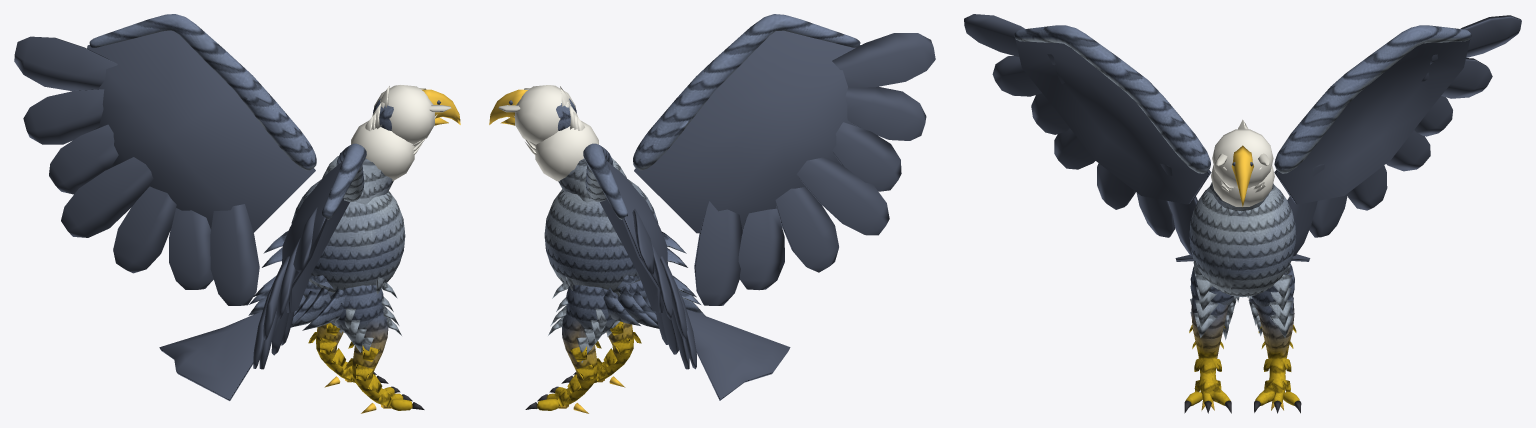
File: roc.glb
3 renders of one model, left to right at view 1: azimuth 30°, elevation 25°; view 2: azimuth 150°, elevation 25°; view 3: azimuth 270°, elevation 25°, orthographic. The views are drawn at different scales.
Visible parts, largest first — view 1: roc.001; view 2: roc.001; view 3: roc.001.
Boxes of the visible parts, bbox=[...] form: roc.001: bbox=[14, 14, 460, 413]; roc.001: bbox=[489, 14, 935, 413]; roc.001: bbox=[964, 14, 1521, 413].
Bounding box in the file's own units: 2.56 × 2.7 × 4.18.
Materials: 7 (1 with a texture image).
